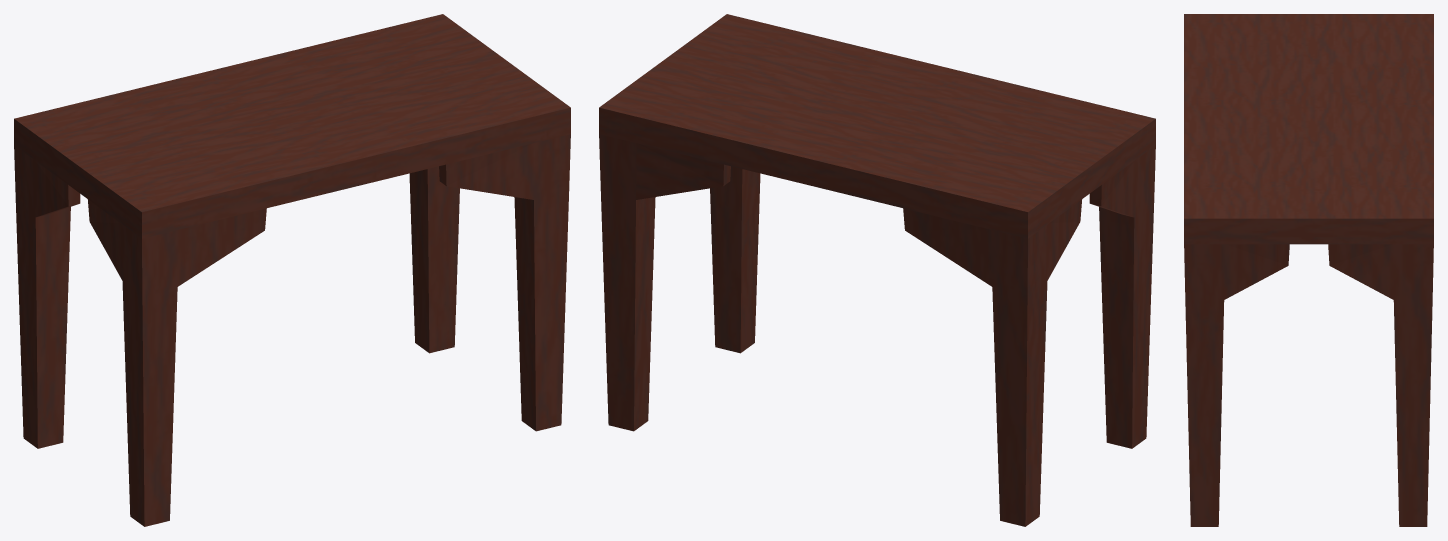
Rendered from Drawer 4.fbx.
The picture shows the model from 3 angles, left to right: view 1: azimuth 30°, elevation 25°; view 2: azimuth 150°, elevation 25°; view 3: azimuth 270°, elevation 25°; orthographic projection. The views are drawn at different scales.
Parts seen in each view (by area): view 1: Cube.027; view 2: Cube.027; view 3: Cube.027.
Boxes of the visible parts, left/top/right/bottom form: Cube.027: left=14, top=14, right=570, bottom=526; Cube.027: left=599, top=14, right=1155, bottom=526; Cube.027: left=1184, top=14, right=1433, bottom=526.
Bounding box in the file's own units: 127 × 90.09 × 65.52.
